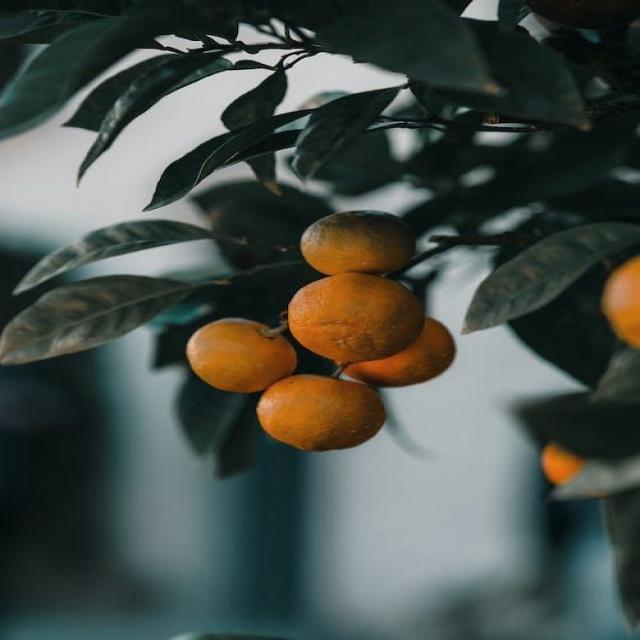Jeruk Sudah Matang: (286, 274, 426, 360), (255, 372, 388, 454), (336, 314, 460, 388), (184, 316, 298, 396), (300, 210, 418, 276), (601, 255, 640, 349), (543, 442, 585, 484)
